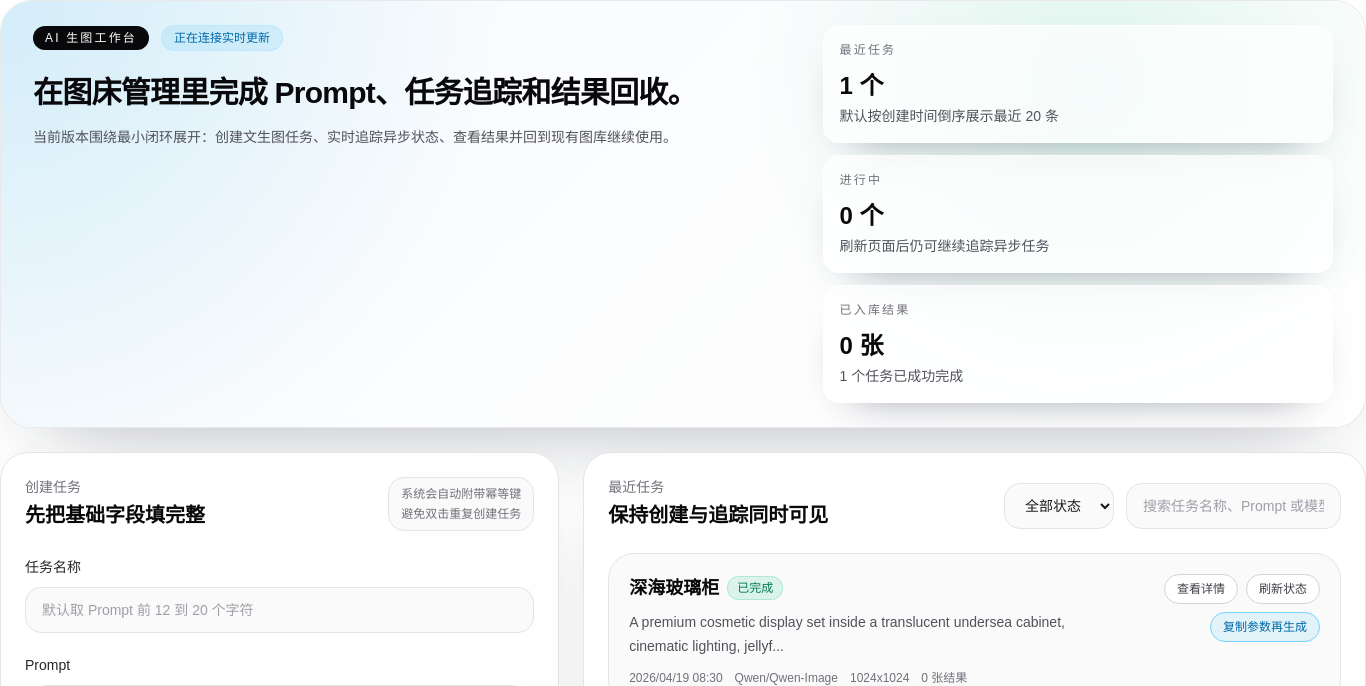
app/admin/_components/ai-image-workspace › 支持从真实任务列表复制参数回填到创建表单
Expected: the button "深海玻璃柜" is shown, [629,574,719,602]
Click the button "复制参数再生成": coordinates (1265, 627) [1210,612,1320,642]
(page scrolled)
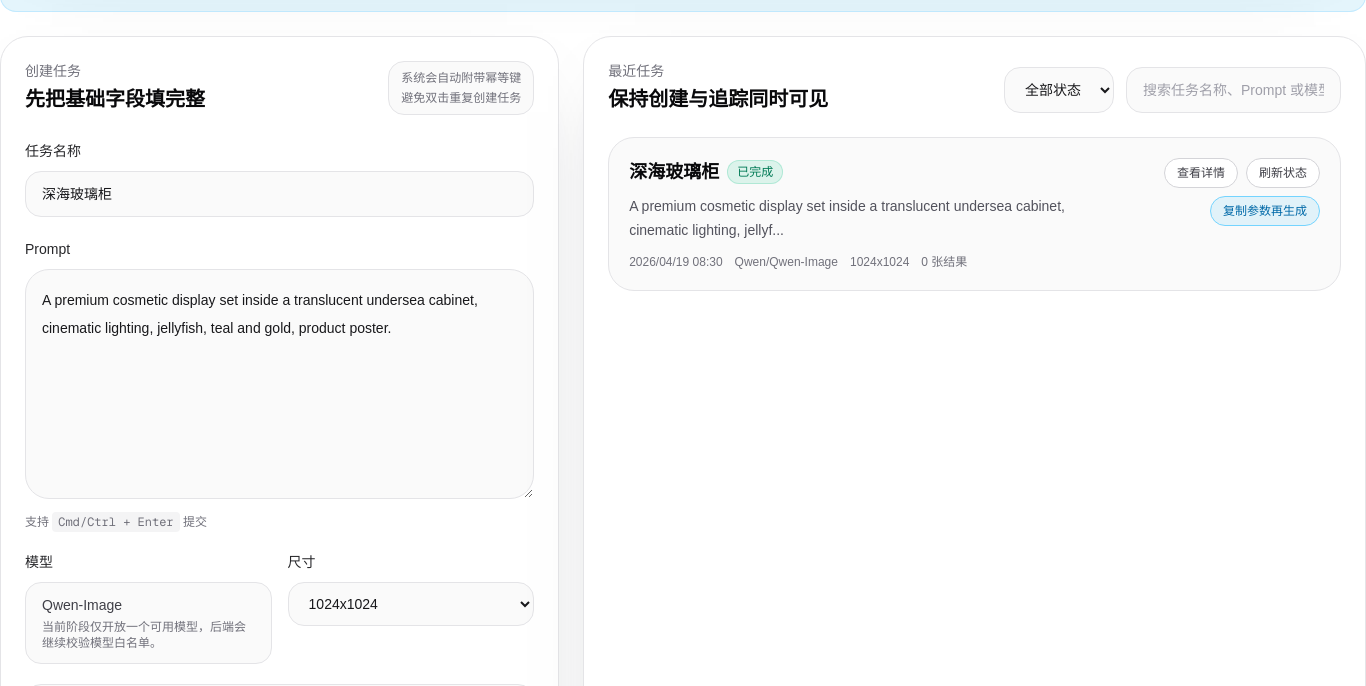
Expected: the field labelled "任务名称" holds "深海玻璃柜", [25,171,534,217]
Expected: the text box labelled "Prompt" holds "A premium cosmetic display set inside a translucent undersea cabinet, cinematic lighting, jellyfish, teal and gold, product poster.", [25,269,534,499]
